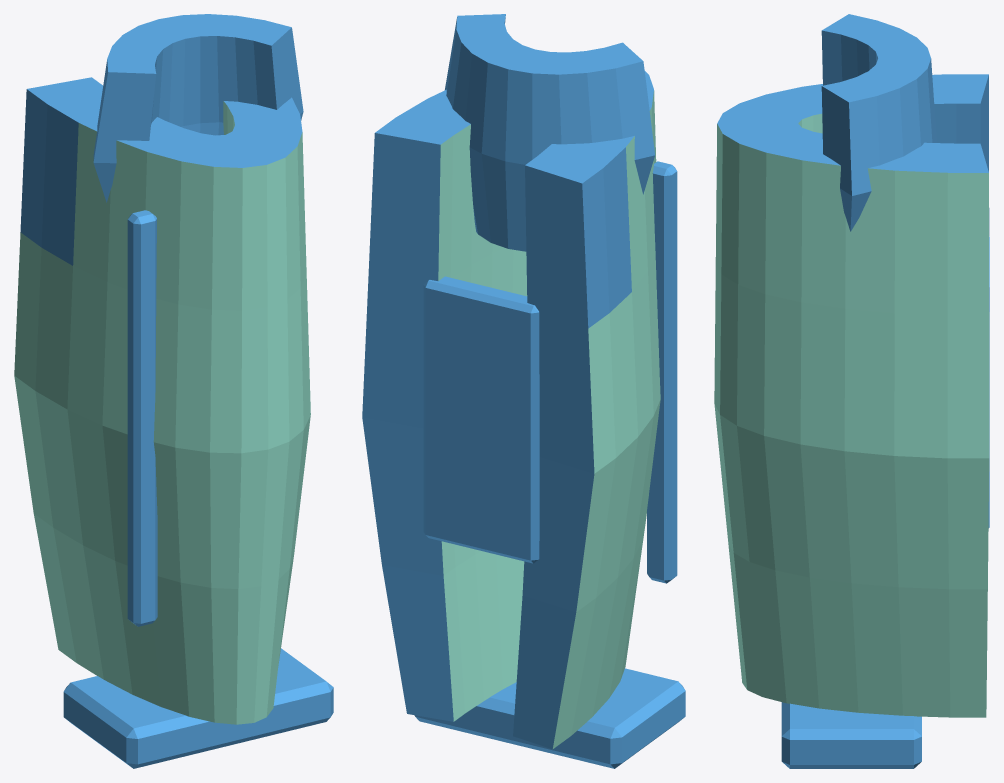
Rendered from right_forearm.glb.
The picture shows the model from 3 angles, left to right: view 1: azimuth 30°, elevation 25°; view 2: azimuth 150°, elevation 25°; view 3: azimuth 270°, elevation 25°; orthographic projection. The views are drawn at different scales.
Visible parts, largest first — view 1: armor_right_forearm_v001; view 2: armor_right_forearm_v001; view 3: armor_right_forearm_v001.
Boxes of the visible parts, x1=… form: armor_right_forearm_v001: x1=14, y1=14, x2=333, y2=768; armor_right_forearm_v001: x1=362, y1=14, x2=685, y2=768; armor_right_forearm_v001: x1=714, y1=14, x2=989, y2=768.
Size of the model in its own units: 0.0948 by 0.266 by 0.0999.
